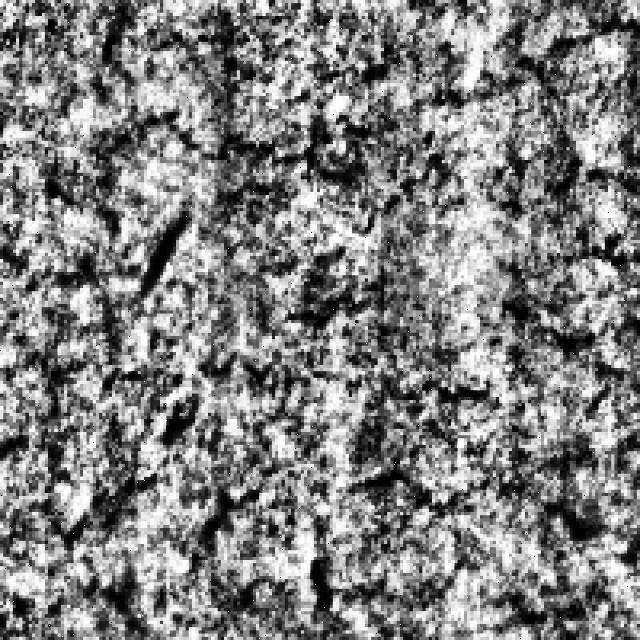Pitted_Surface: (93, 7, 637, 330), (6, 336, 528, 627)
